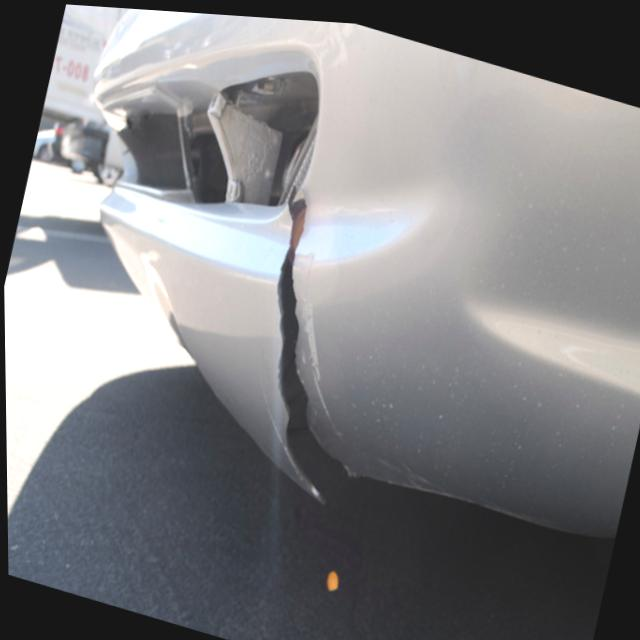Crack: (270, 183, 358, 509)
Scratch: (303, 294, 335, 422)
